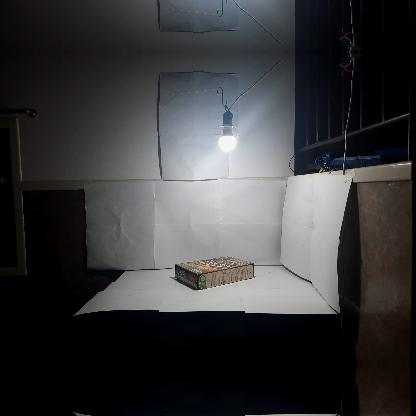Koko-Krunch: (174, 256, 254, 290)
